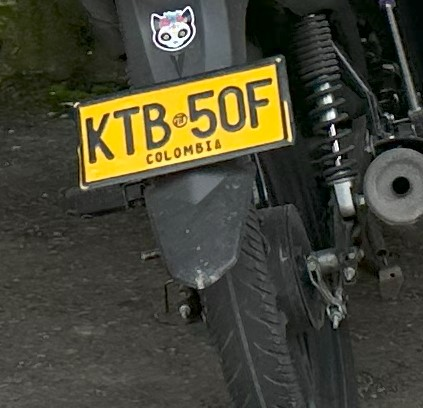number plate: (77, 56, 293, 187)
